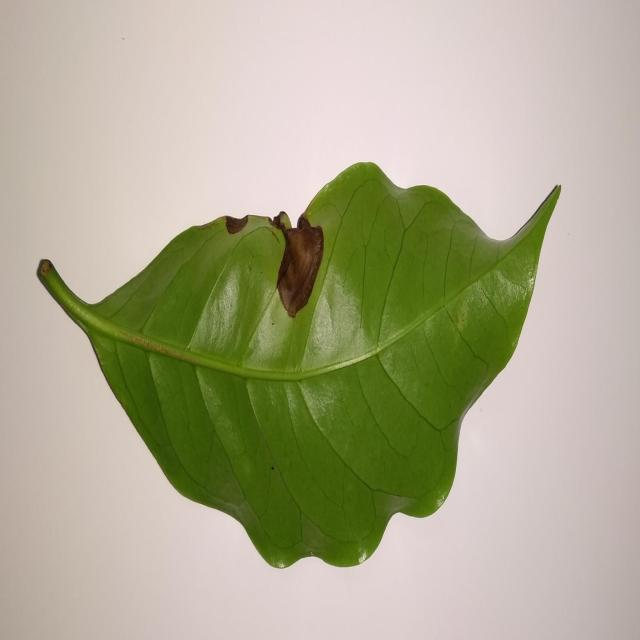phoma: (271, 212, 323, 318), (224, 214, 248, 234)
